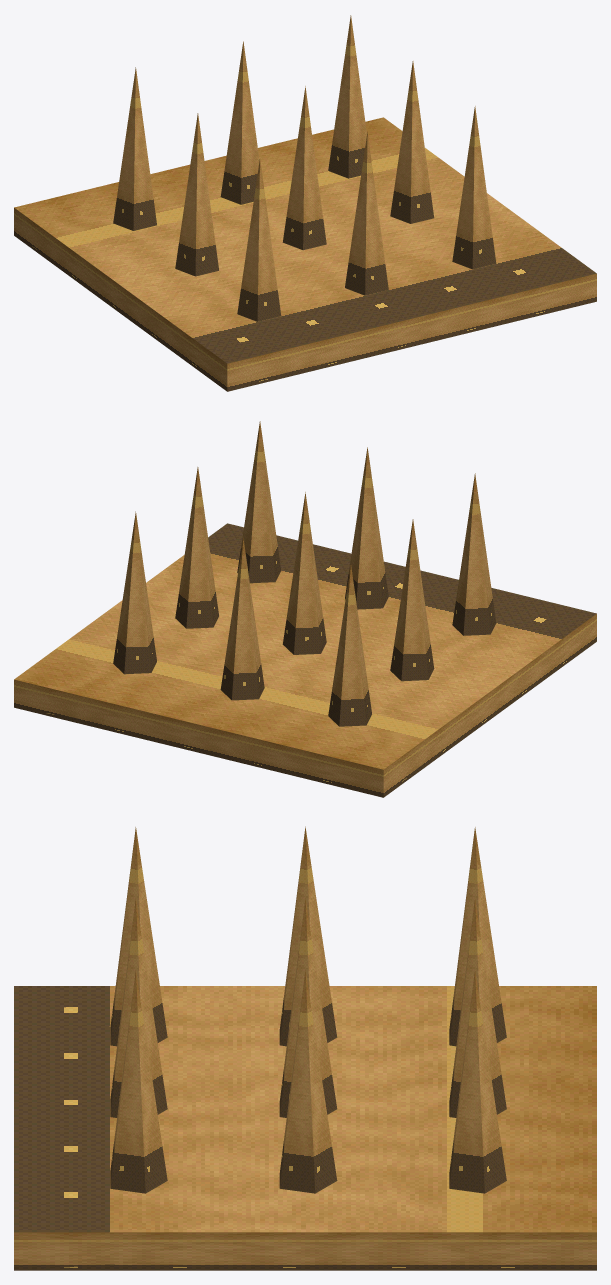
The model's file is armadilha_de_espinhos_aviso.glb.
The picture shows the model from 3 angles, top to bottom: view 1: azimuth 30°, elevation 25°; view 2: azimuth 150°, elevation 25°; view 3: azimuth 270°, elevation 25°; orthographic projection. The views are drawn at different scales.
Parts seen in each view (by area): view 1: armadilha_de_espinhos_aviso; view 2: armadilha_de_espinhos_aviso; view 3: armadilha_de_espinhos_aviso.
Boxes of the visible parts, <box> form: armadilha_de_espinhos_aviso: <box>14,15,596,391</box>; armadilha_de_espinhos_aviso: <box>14,421,596,797</box>; armadilha_de_espinhos_aviso: <box>14,826,596,1270</box>.
Bounding box in the file's own units: 1.1 × 0.52 × 1.1.
1 material, 1 textured.
